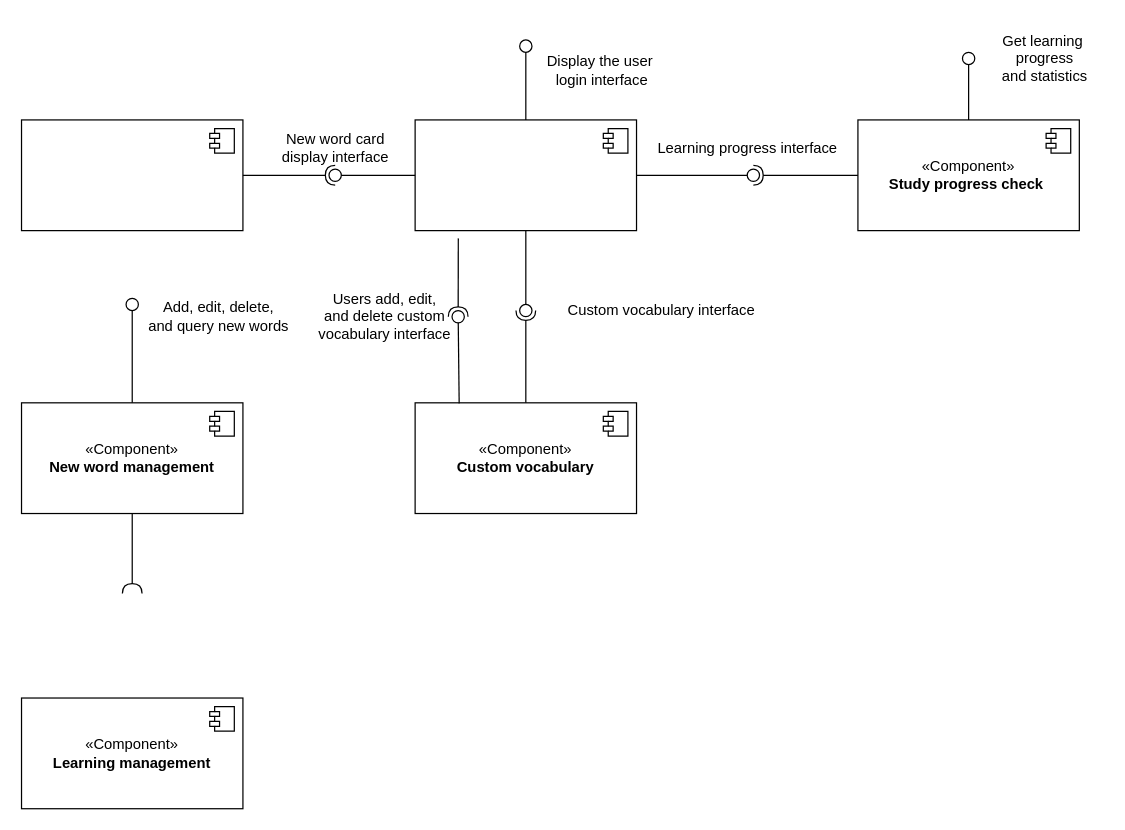
Some shapes in this 1125 by 830 pixel diagram are drawn without their labels. Each missing label, with the centre of its shape:
«Component» User interface: the point at 525,175
«Component» Word generation and visualization: the point at 131,175
